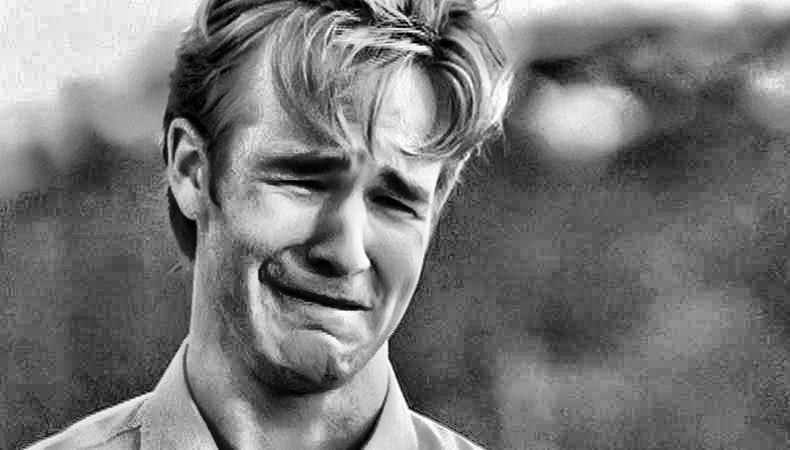sad: (227, 34, 435, 395)
